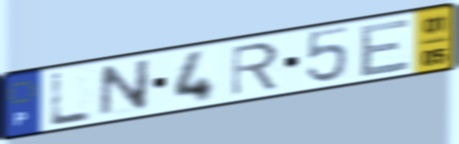4: (170, 47, 220, 104)
5: (304, 23, 350, 87)
E: (357, 15, 413, 80)
L: (47, 69, 95, 129)
N: (96, 56, 154, 120)
R: (229, 40, 282, 99)
